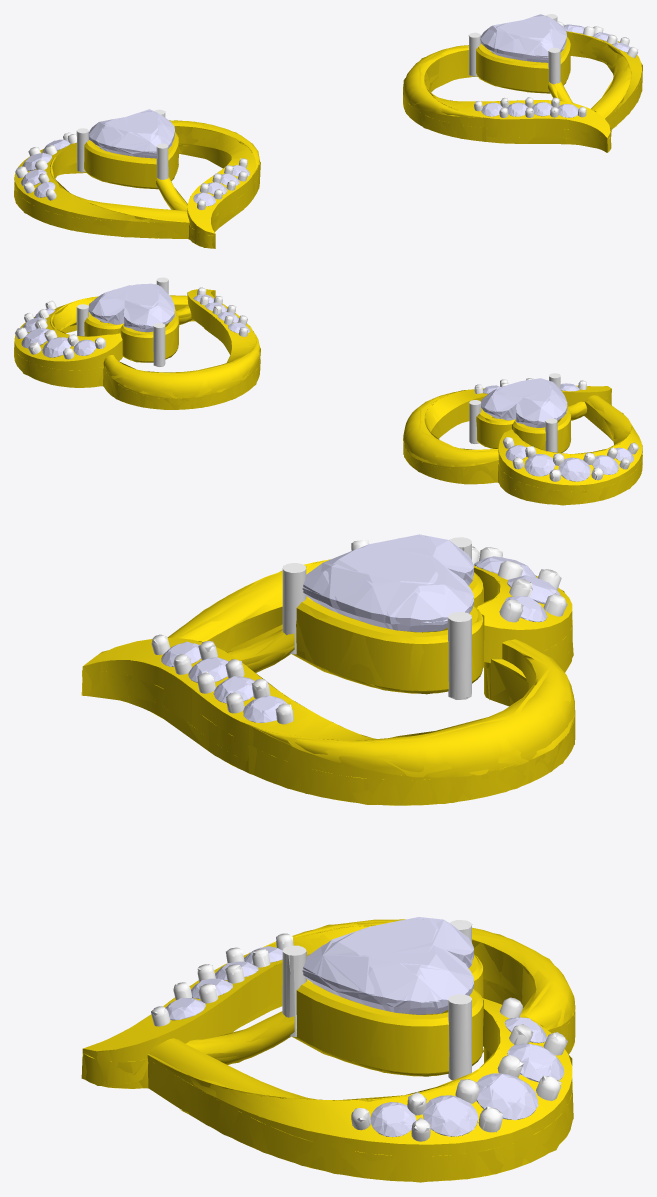
3 views of the same model, one above another, from view 1: azimuth 30°, elevation 25°; view 2: azimuth 150°, elevation 25°; view 3: azimuth 270°, elevation 25° (orthographic). The views are drawn at different scales.
Parts seen in each view (by area): view 1: highPolyMesh, lowPolyMesh; view 2: highPolyMesh, lowPolyMesh; view 3: highPolyMesh, lowPolyMesh.
Part boxes in pixels (x1,y1,x2,y2): highPolyMesh: (14, 14, 641, 248); lowPolyMesh: (14, 15, 642, 248); highPolyMesh: (14, 277, 642, 504); lowPolyMesh: (14, 277, 642, 505); highPolyMesh: (82, 536, 575, 1181); lowPolyMesh: (81, 534, 575, 1182).
Size of the model in its own units: 0.0277 by 0.00301 by 0.00978.
